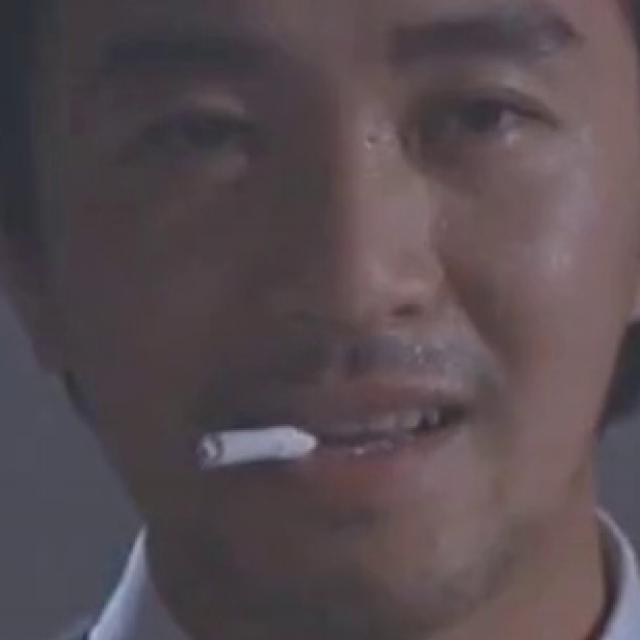smoking: (198, 423, 320, 469)
